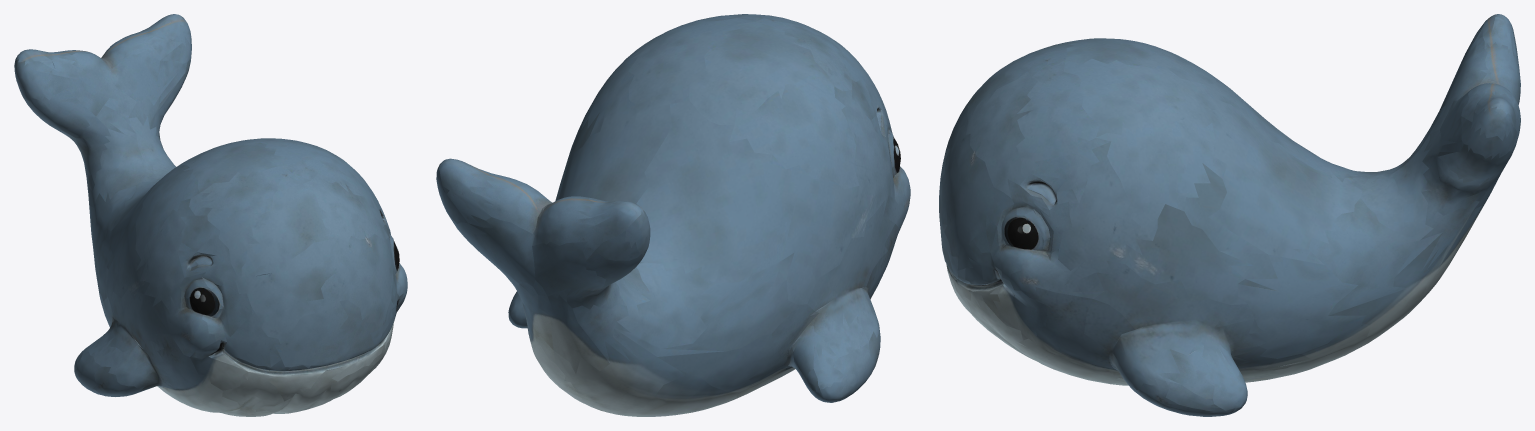
File: balena_blu.glb
3 renders of one model, left to right at view 1: azimuth 30°, elevation 25°; view 2: azimuth 150°, elevation 25°; view 3: azimuth 270°, elevation 25°, orthographic. The views are drawn at different scales.
Parts seen in each view (by area): view 1: balena_blu; view 2: balena_blu; view 3: balena_blu.
Part boxes in pixels (x1,y1,x2,y2): balena_blu: [14, 14, 407, 416]; balena_blu: [436, 14, 910, 416]; balena_blu: [939, 14, 1520, 416].
Size of the model in its own units: 0.4433 by 0.3761 by 0.66.
1 material, 1 textured.
